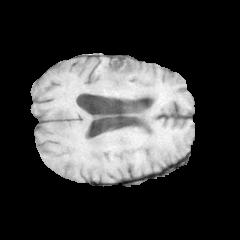glioma: (66, 58, 159, 121)
